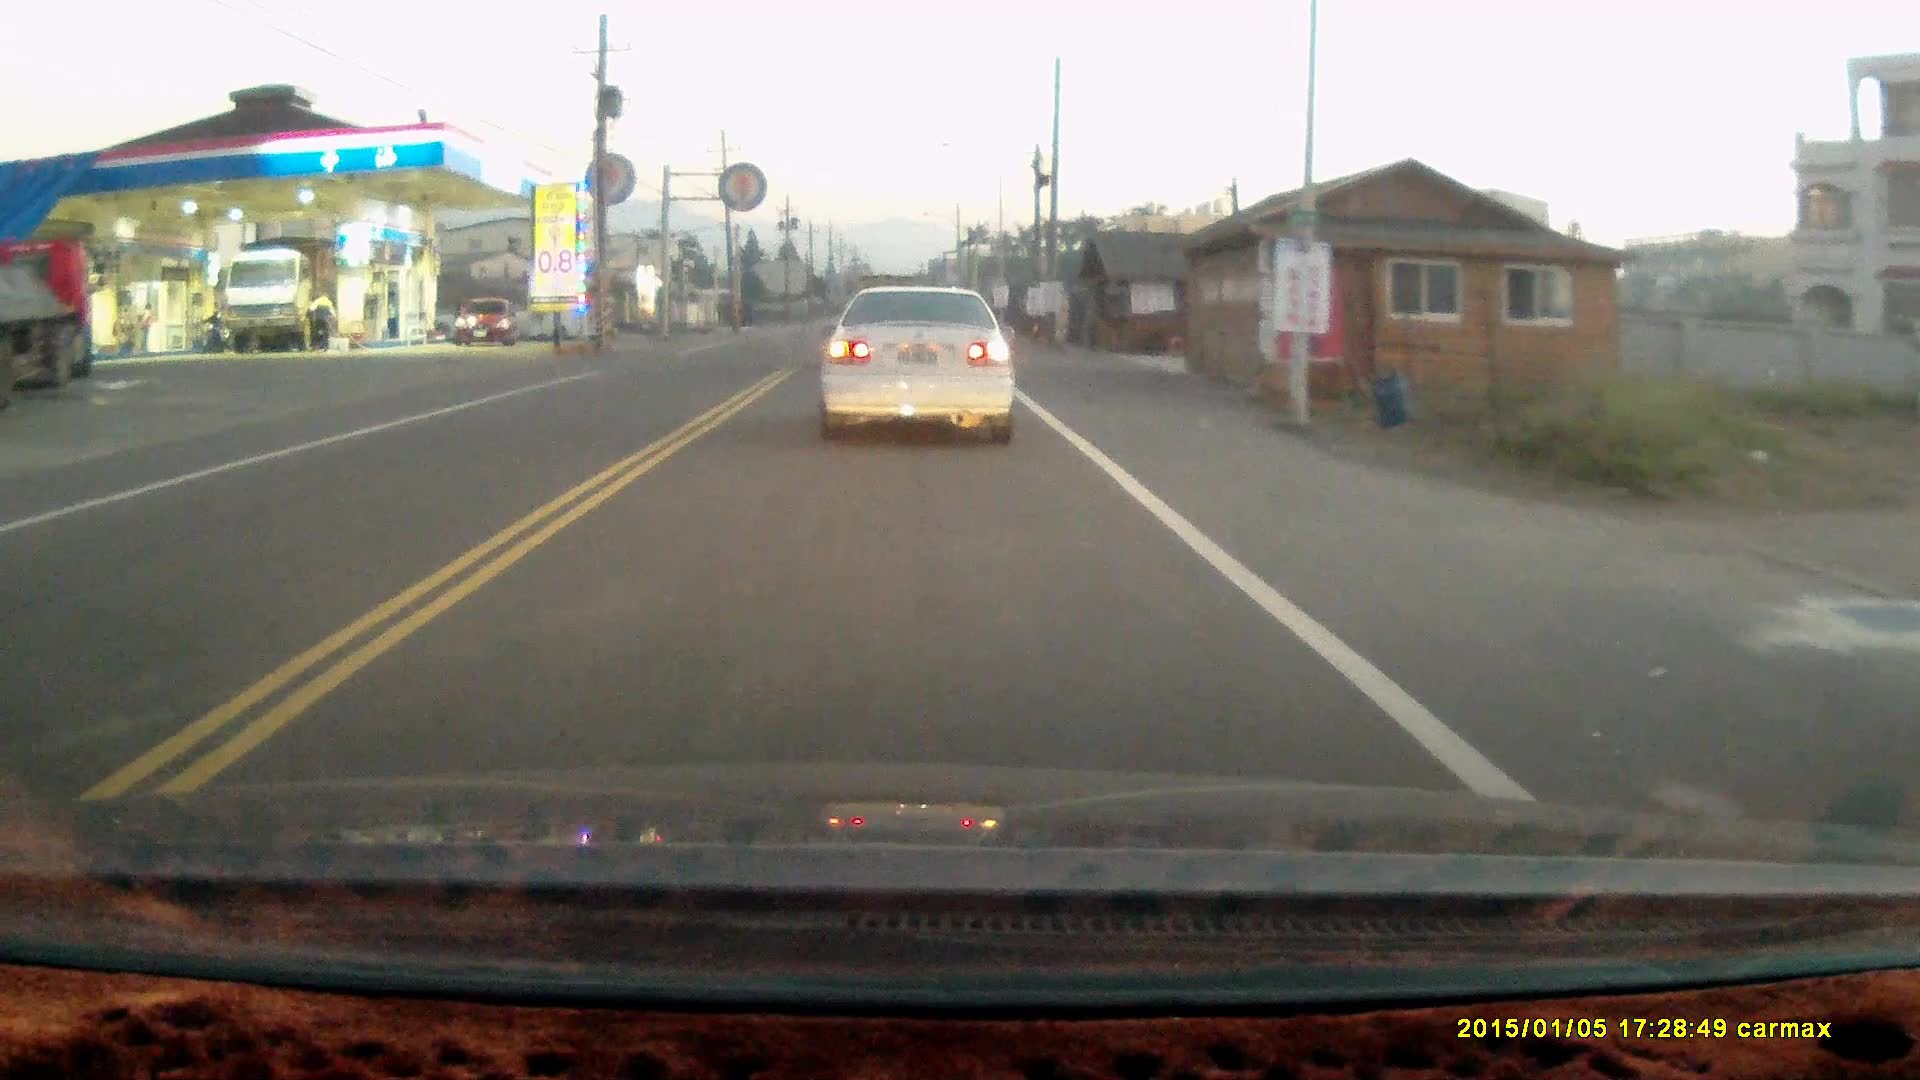pedestrian: (301, 289, 337, 349)
vehicle: (814, 280, 1020, 445), (0, 235, 102, 404), (222, 243, 336, 352), (455, 296, 524, 349)
